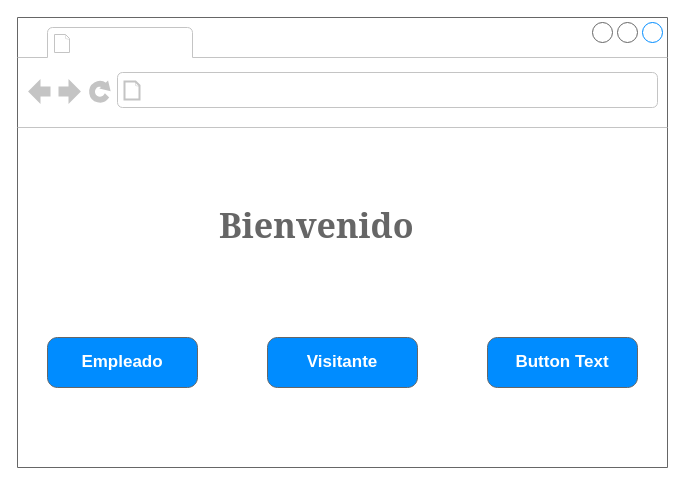
This 685x485 diagram has some shape labels left out. The centre of each missing label's shape, as x and y in pixels:
https://www.draw.io: the point at 272,90
principal: the point at 132,42
